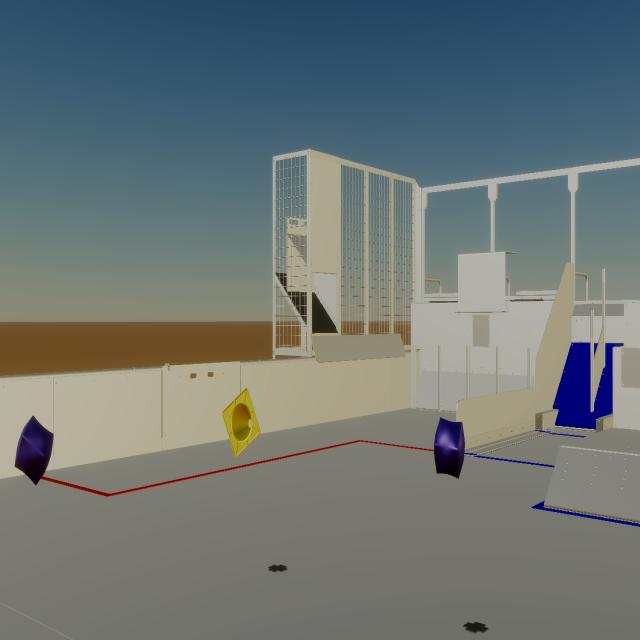frc_cone: (222, 388, 260, 458)
frc_cube: (14, 416, 54, 486), (434, 417, 465, 479)
